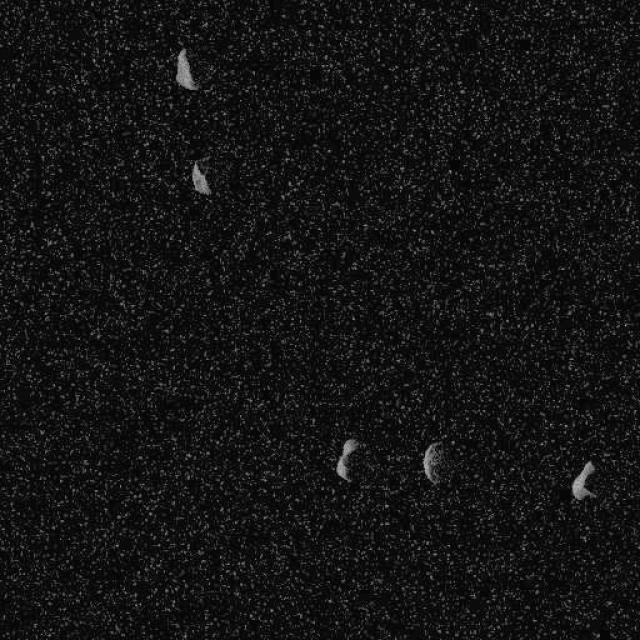D2: (421, 440, 451, 485), (334, 437, 361, 482), (174, 46, 198, 92), (570, 459, 596, 501), (190, 159, 211, 195)
